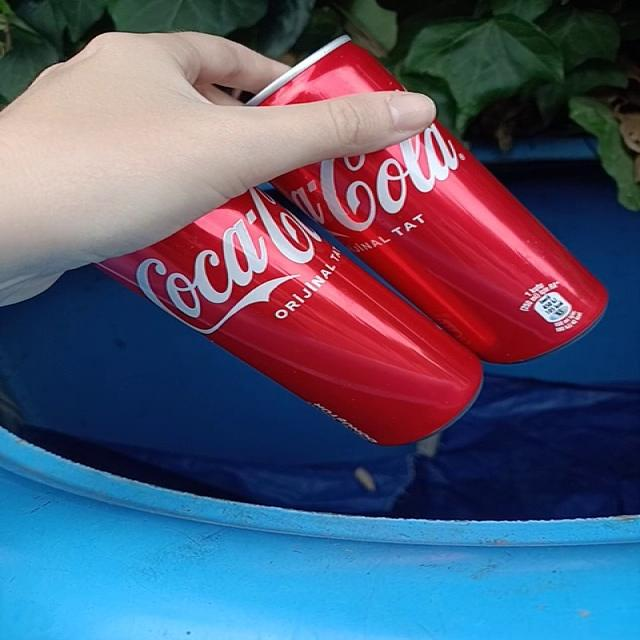bin: (1, 140, 640, 640)
metal: (99, 190, 481, 446), (273, 123, 608, 362), (251, 35, 403, 109)
